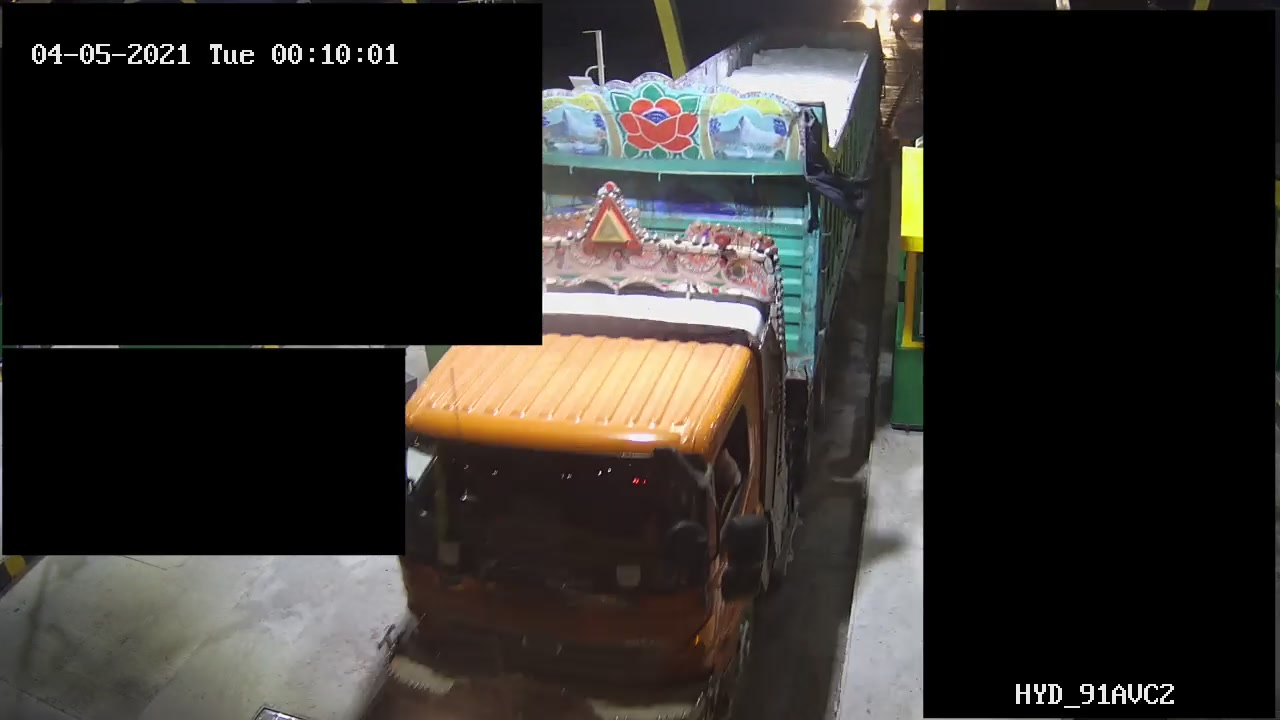F6: (366, 13, 888, 707)
